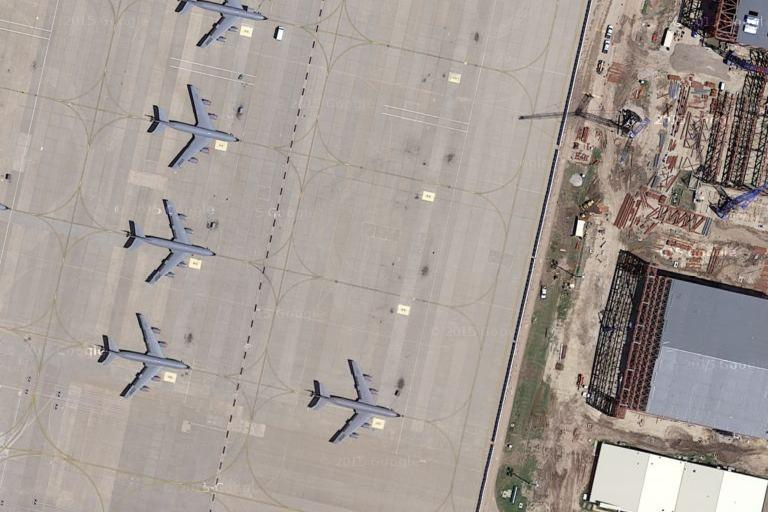KC-135: (97, 309, 194, 403), (307, 355, 402, 447), (146, 81, 243, 171), (121, 196, 217, 286), (170, 1, 273, 49)
